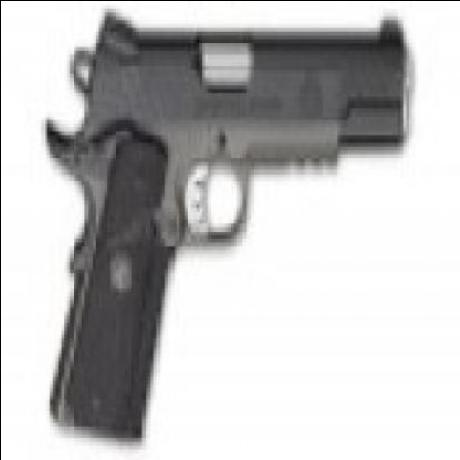weapon: (62, 11, 412, 443)
